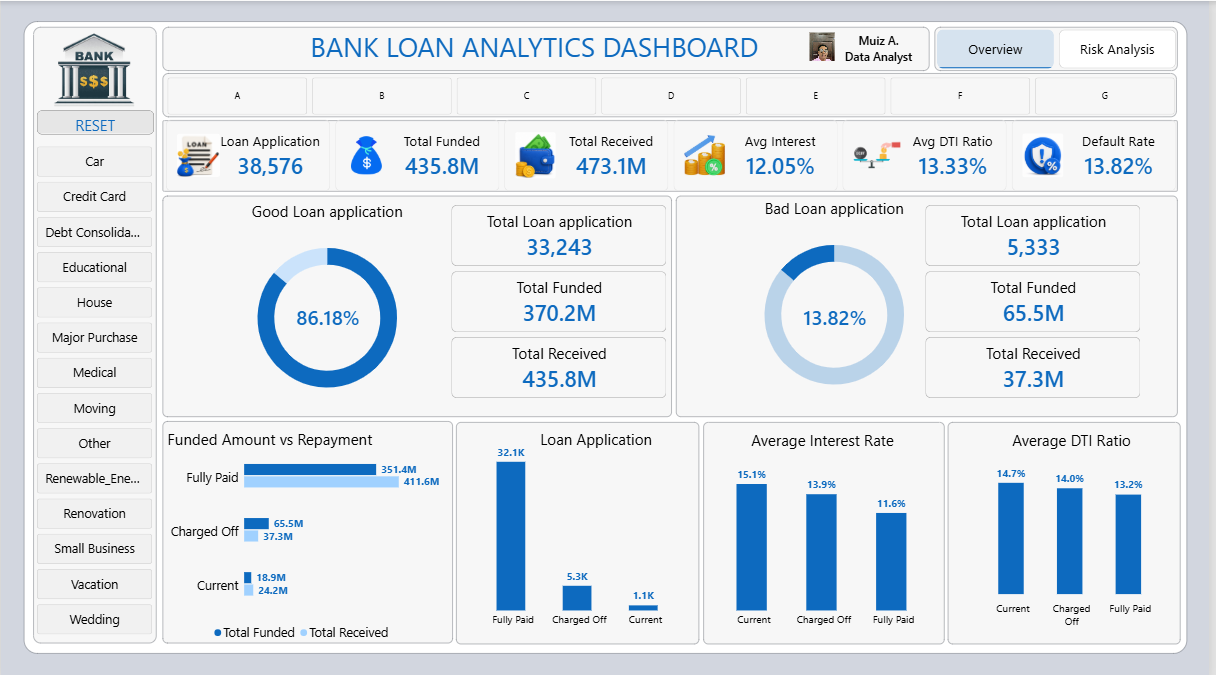

This screenshot's page, from the dashboard's own definition file:
{"tool":"powerbi","page":{"name":"Overview","canvas":[1920,1080],"ordinal":0},"visuals":[{"type":"cardVisual","fields":{"Data":["all_measures.Total loan application","all_measures.Total Funded Amount","all_measures.Total Amount Received","all_measures.Average Interest Rate","all_measures.Average DTI Ratio","all_measures.Default Rate1"]},"box":[262.5,188.5,1608.1,114.5],"z":0},{"type":"donutChart","title":"Good Loan application","fields":{"Category":["financial_loan.Good vs Bad Loan"],"Y":["all_measures.Loan application"]},"box":[264.8,303,508.2,355.5],"z":1000},{"type":"donutChart","title":"Bad Loan application","fields":{"Category":["financial_loan.Good vs Bad Loan"],"Y":["all_measures.Loan application"]},"box":[1068.9,298.2,513,355.5],"z":2000},{"type":"cardVisual","fields":{"Data":["all_measures.Good Loan %"]},"box":[446.2,465.3,148.9,72.9],"z":3000},{"type":"cardVisual","fields":{"Data":["all_measures.Bad Loan %"]},"box":[1252.6,465.3,148.9,72.9],"z":4000},{"type":"cardVisual","fields":{"Data":["all_measures.Total loan application","all_measures.Total Funded Amount","all_measures.Total Amount Received"],"Rows":["financial_loan.Good vs Bad Loan"]},"box":[682.5,325,375,307.5],"z":5000},{"type":"cardVisual","fields":{"Data":["all_measures.Total loan application","all_measures.Total Funded Amount","all_measures.Total Amount Received"],"Rows":["financial_loan.Good vs Bad Loan"]},"box":[1437.5,325,375,307],"z":6000},{"type":"clusteredColumnChart","title":"Loan Application","fields":{"Category":["financial_loan.LOAN_STATUS"],"Y":["all_measures.Total Loan application"]},"box":[730.1,680,379.4,336.4],"z":7000},{"type":"clusteredBarChart","title":"Funded Amount vs Repayment","fields":{"Category":["financial_loan.LOAN_STATUS"],"Y":["all_measures.Total Funded","all_measures.Total Received"]},"box":[245.7,680,467.6,357.9],"z":8000},{"type":"clusteredColumnChart","title":"Average Interest Rate","fields":{"Category":["financial_loan.LOAN_STATUS"],"Y":["all_measures.Avg Interest"]},"box":[1109.5,680,398.4,336.4],"z":9000},{"type":"clusteredColumnChart","title":"Average DTI Ratio","fields":{"Category":["financial_loan.LOAN_STATUS"],"Y":["all_measures.Avg DTI Ratio"]},"box":[1507.9,680,365,336.4],"z":10000},{"type":"image","box":[55,50,187,117],"z":11000},{"type":"advancedSlicerVisual","fields":{"Values":["financial_loan.PURPOSE"]},"box":[57.3,231.4,183.7,785],"z":12000},{"type":"advancedSlicerVisual","fields":{"Values":["dim_grade.GRADE"]},"box":[264.8,121.7,1608.1,59.6],"z":13000},{"type":"actionButton","box":[57.3,174.2,186.1,38.2],"z":14000},{"type":"textbox","box":[410.1,42.5,875.6,69.2],"z":15000},{"type":"pageNavigator","box":[1488.8,45.3,381.7,62],"z":16000},{"type":"textbox","box":[264.8,680,337.5,42.5],"z":17000},{"type":"image","box":[1286,50.9,40,45],"z":18000,"group":"g1"},{"type":"textbox","box":[1138.1,682.4,337.5,42.5],"z":18000},{"type":"textbox","box":[1317.8,50.1,157.5,50],"z":19000,"group":"g1"},{"type":"textbox","box":[751.6,680,337.5,42.5],"z":19000},{"type":"textbox","box":[1534.1,682.4,337.5,42.5],"z":20000},{"type":"group","id":"g1","title":"Group 1","box":[1286,50.1,188.5,50.1],"z":21000}]}

Visuals, with their boxes in screenshot pixels (x1, y1, x2, y2), scaled from the page's 1920x1080 canvas onto the 1216x675 screenshot:
cardVisual - all_measures.Total loan application x all_measures.Total Funded Amount: box=[166, 118, 1185, 189]
"Good Loan application" donutChart: box=[168, 189, 490, 412]
"Bad Loan application" donutChart: box=[677, 186, 1002, 409]
cardVisual - all_measures.Good Loan %: box=[283, 291, 377, 336]
cardVisual - all_measures.Bad Loan %: box=[793, 291, 888, 336]
cardVisual - all_measures.Total loan application x all_measures.Total Funded Amount: box=[432, 203, 670, 395]
cardVisual - all_measures.Total loan application x all_measures.Total Funded Amount: box=[910, 203, 1148, 395]
"Loan Application" clusteredColumnChart: box=[462, 425, 703, 635]
"Funded Amount vs Repayment" clusteredBarChart: box=[156, 425, 452, 649]
"Average Interest Rate" clusteredColumnChart: box=[703, 425, 955, 635]
"Average DTI Ratio" clusteredColumnChart: box=[955, 425, 1186, 635]
image: box=[35, 31, 153, 104]
advancedSlicerVisual - financial_loan.PURPOSE: box=[36, 145, 153, 635]
advancedSlicerVisual - dim_grade.GRADE: box=[168, 76, 1186, 113]
actionButton: box=[36, 109, 154, 133]
textbox: box=[260, 27, 814, 70]
pageNavigator: box=[943, 28, 1185, 67]
textbox: box=[168, 425, 381, 452]
image: box=[814, 32, 840, 60]
textbox: box=[721, 426, 935, 453]
textbox: box=[835, 31, 934, 63]
textbox: box=[476, 425, 690, 452]
textbox: box=[972, 426, 1185, 453]
"Group 1" group: box=[814, 31, 934, 63]
